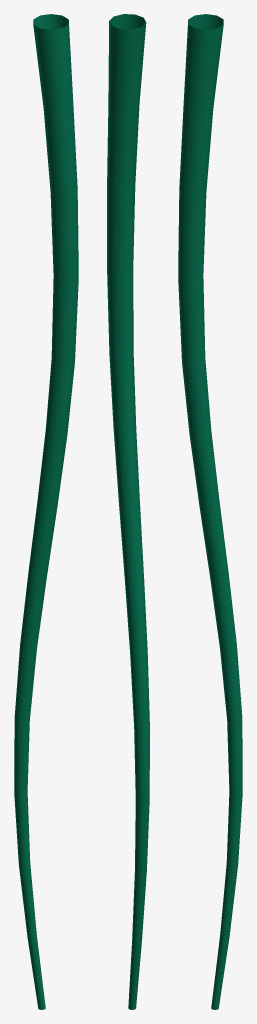
Rendered from NormalVine_02.fbx.
3 views of the same model, side by side, from view 1: azimuth 90°, elevation 25°; view 2: azimuth 210°, elevation 25°; view 3: azimuth 270°, elevation 25° (orthographic).
Parts seen in each view (by area): view 1: normalVine_01; view 2: normalVine_01; view 3: normalVine_01.
Part boxes in pixels (<box>): normalVine_01: <box>14,14,78,1009</box>; normalVine_01: <box>107,14,149,1009</box>; normalVine_01: <box>178,14,242,1009</box>.
Size of the model in its own units: 0.55 by 15.97 by 0.9479.
